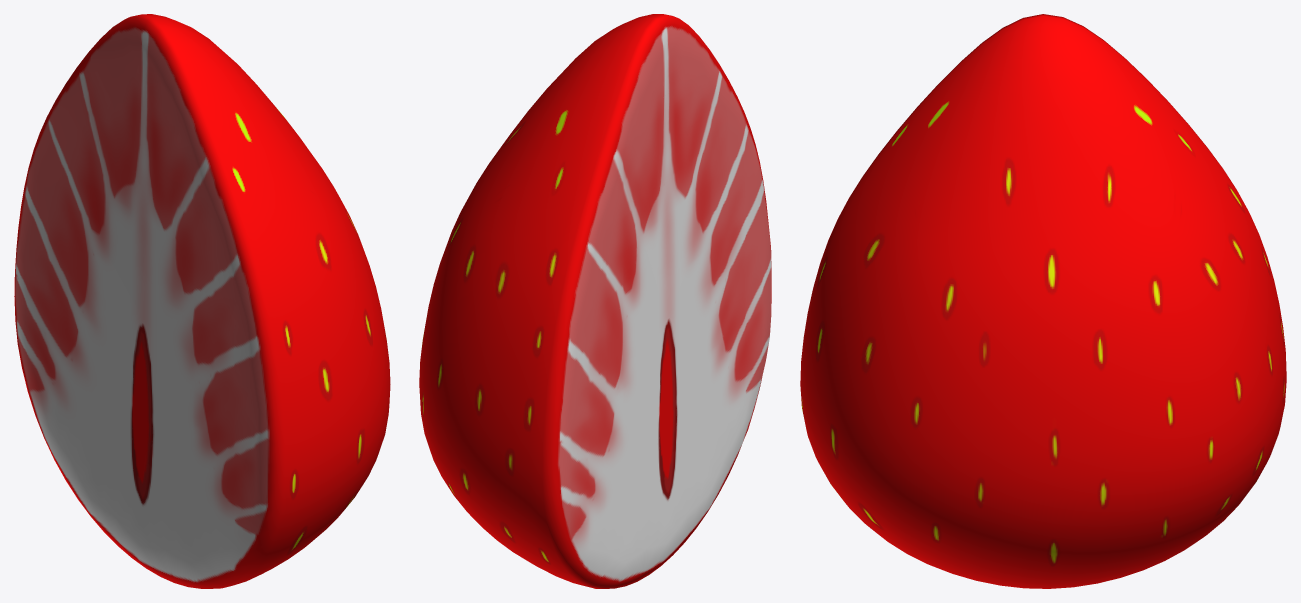
File: itigo cat.fbx
3 renders of one model, left to right at view 1: azimuth 30°, elevation 25°; view 2: azimuth 150°, elevation 25°; view 3: azimuth 270°, elevation 25°, orthographic.
Parts seen in each view (by area): view 1: pCube1; view 2: pCube1; view 3: pCube1.
Part boxes in pixels (x1,y1,x2,y2): pCube1: [14, 14, 390, 588]; pCube1: [419, 14, 771, 588]; pCube1: [800, 14, 1286, 588].
Bounding box in the file's own units: 0.0196 × 0.0467 × 0.0374.
1 material, 1 textured.
